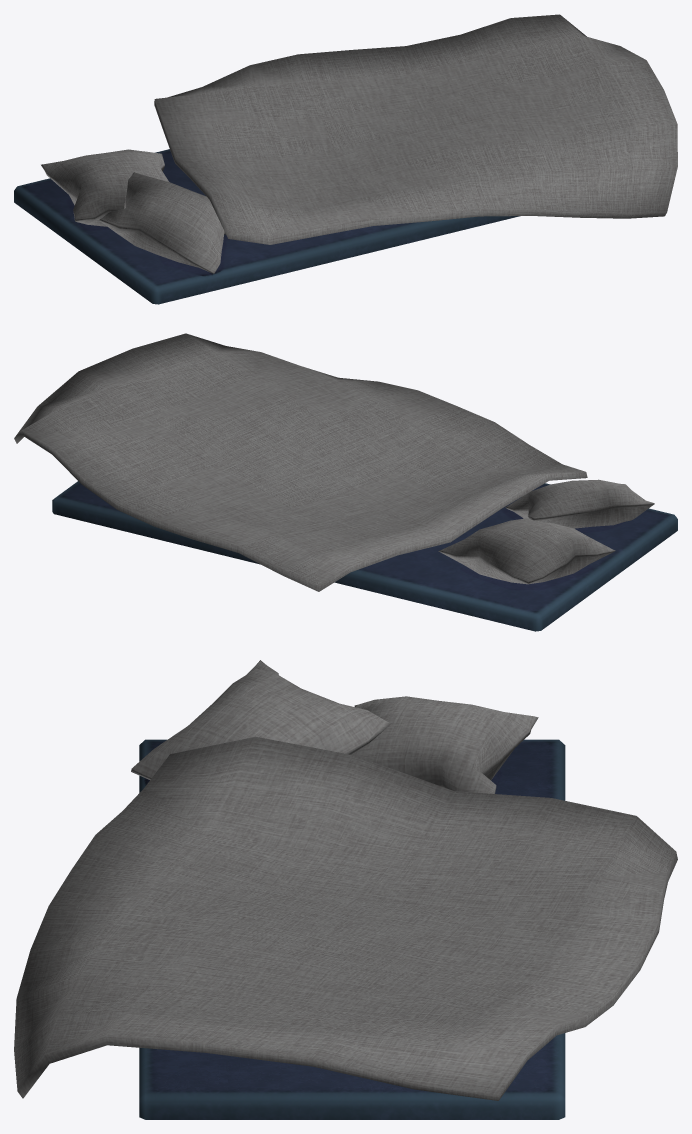
Rendered from matress.obj.
The picture shows the model from 3 angles, top to bottom: view 1: azimuth 30°, elevation 25°; view 2: azimuth 150°, elevation 25°; view 3: azimuth 270°, elevation 25°; orthographic projection. The views are drawn at different scales.
Visible parts, largest first — view 1: MATELA001; view 2: MATELA001; view 3: MATELA001.
Part boxes in pixels (x1,y1,x2,y2): MATELA001: [14, 14, 677, 304]; MATELA001: [14, 333, 677, 631]; MATELA001: [14, 660, 677, 1119].
Size of the model in its own units: 3.13 by 0.3615 by 2.1.
1 material, 1 textured.
